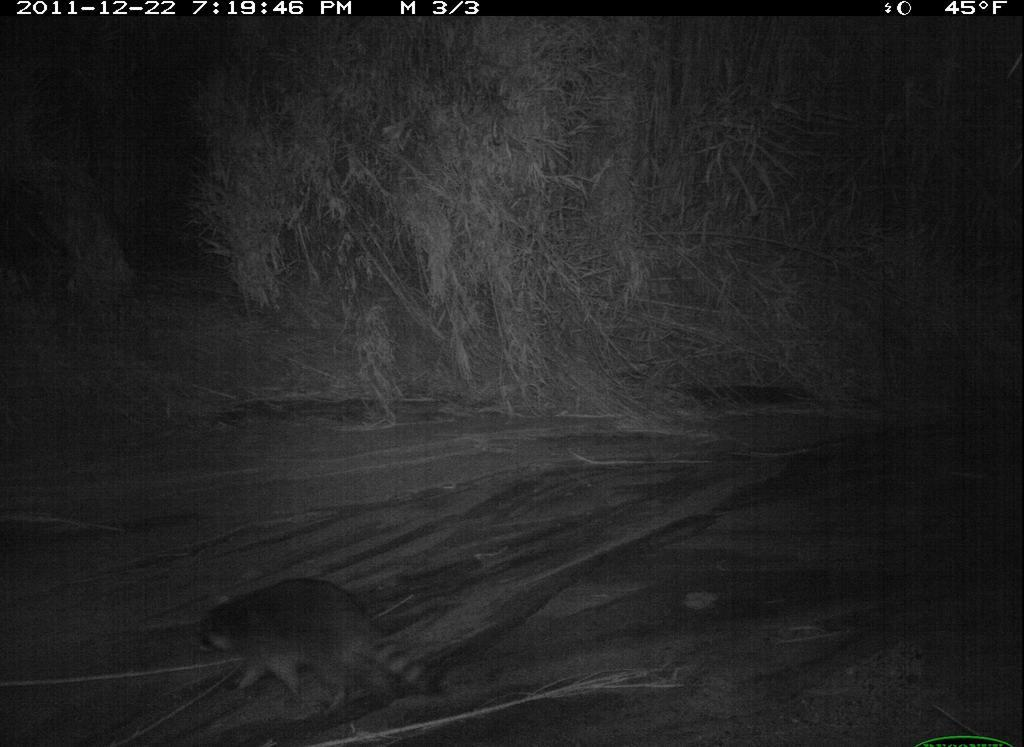raccoon: (181, 568, 461, 731)
